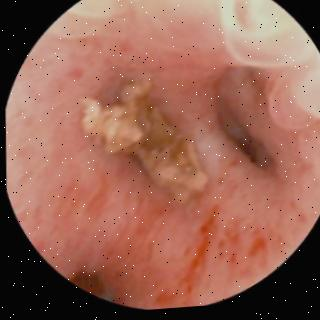stone: (80, 80, 204, 206)
tissue: (4, 0, 320, 307)
